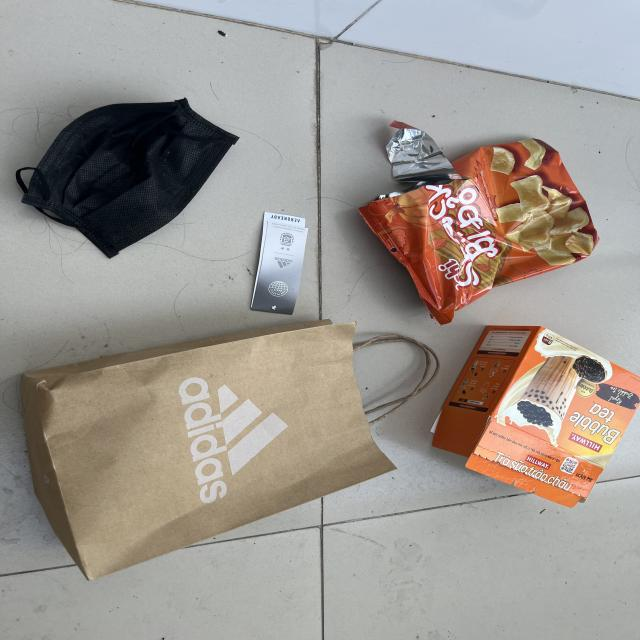bag: (19, 317, 440, 583)
cardboard box: (428, 324, 640, 508)
mask: (18, 98, 240, 258)
paper: (251, 210, 310, 314)
snack package: (356, 121, 600, 323)
